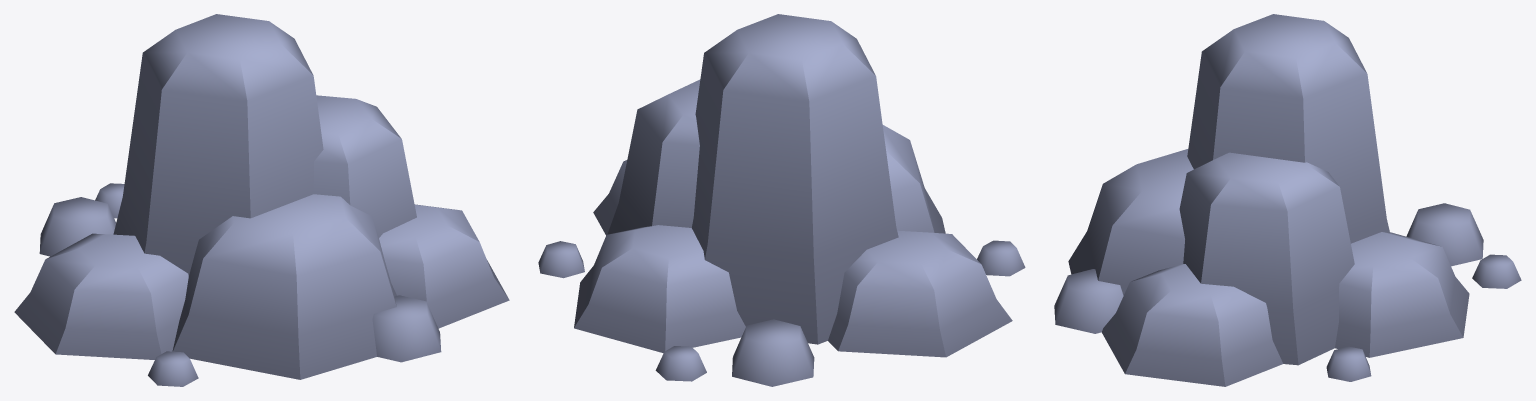
File: rocks-tall.glb
The picture shows the model from 3 angles, left to right: view 1: azimuth 30°, elevation 25°; view 2: azimuth 150°, elevation 25°; view 3: azimuth 270°, elevation 25°; orthographic projection. The views are drawn at different scales.
Visible parts, largest first — view 1: rocks-tall; view 2: rocks-tall; view 3: rocks-tall.
Boxes of the visible parts, left/top/right/bottom form: rocks-tall: left=14, top=14, right=509, bottom=386; rocks-tall: left=538, top=14, right=1025, bottom=386; rocks-tall: left=1054, top=14, right=1521, bottom=386.
Bounding box in the file's own units: 1.03 × 0.5876 × 1.02.
